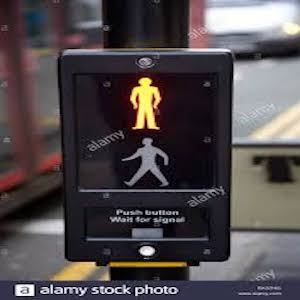red: (122, 75, 174, 132)
